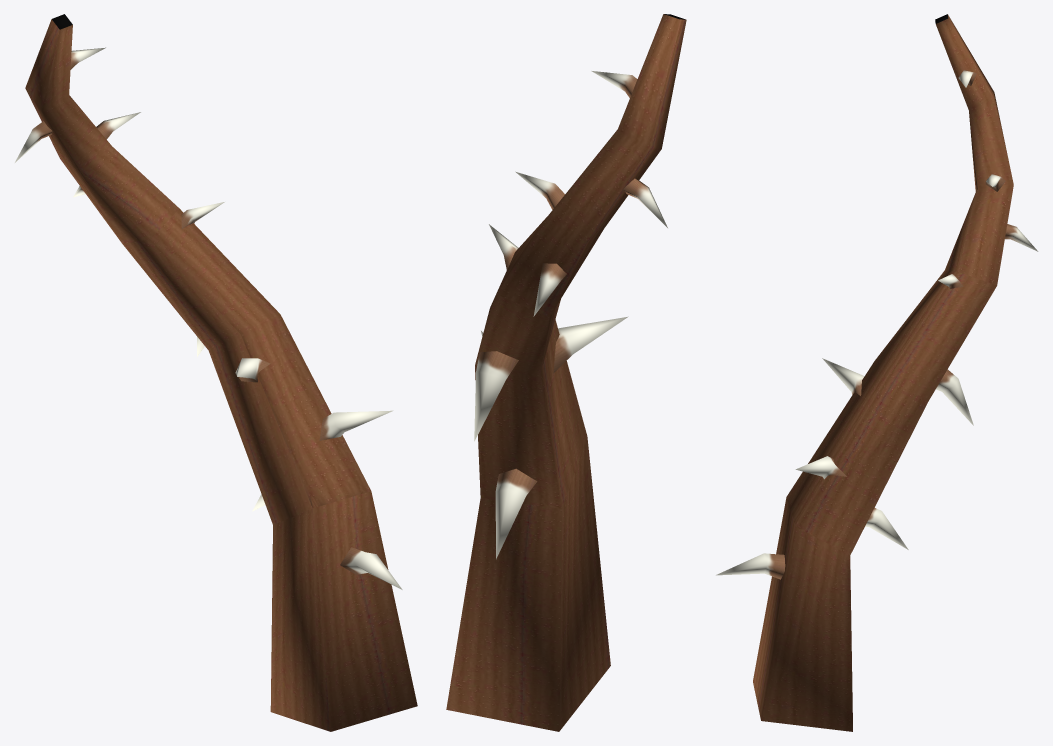
File: Thorn_3.fbx
3 views of the same model, side by side, from view 1: azimuth 30°, elevation 25°; view 2: azimuth 150°, elevation 25°; view 3: azimuth 270°, elevation 25° (orthographic). The views are drawn at different scales.
Parts seen in each view (by area): view 1: Thorn3; view 2: Thorn3; view 3: Thorn3.
Part boxes in pixels (x1=…): Thorn3: x1=15, y1=14, x2=417, y2=731; Thorn3: x1=446, y1=14, x2=686, y2=731; Thorn3: x1=716, y1=14, x2=1038, y2=731.
Bounding box in the file's own units: 215 × 518 × 249.
